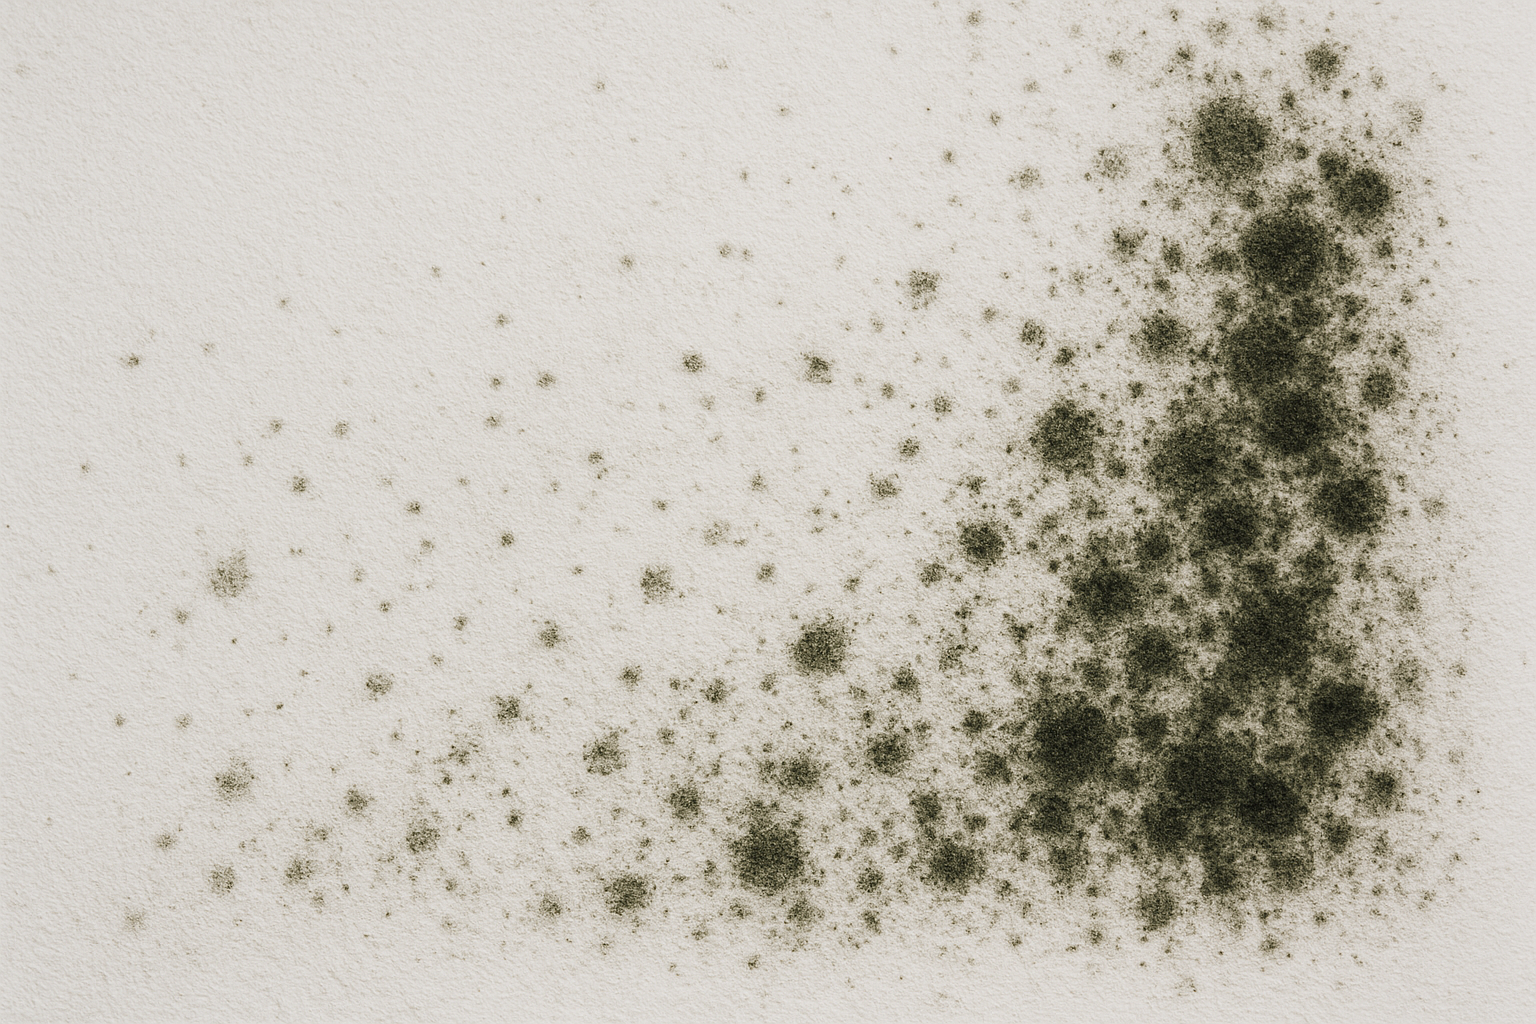schimmel: (1134, 69, 1423, 927), (937, 339, 1221, 911), (670, 774, 850, 955), (781, 589, 898, 711), (203, 558, 277, 654)
